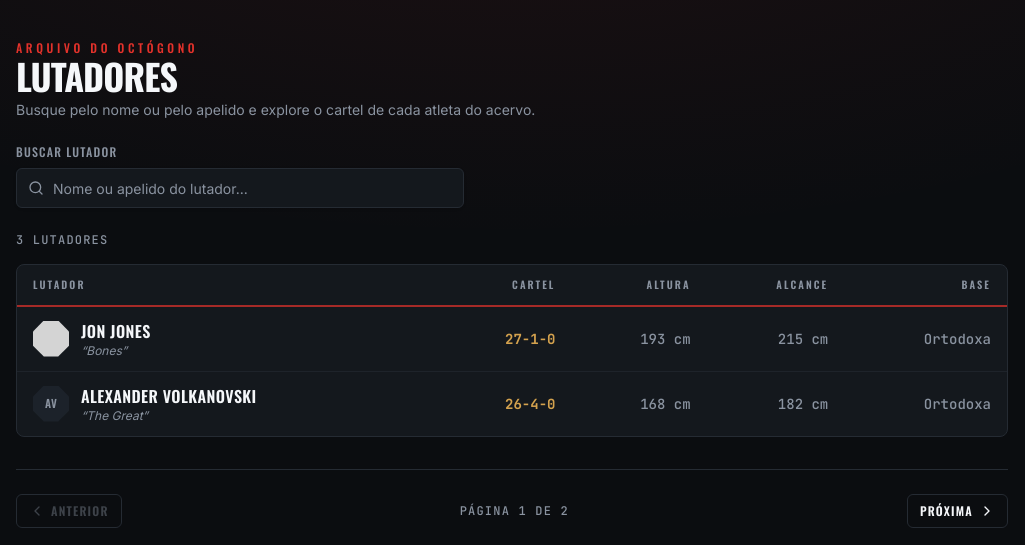
Test: FightersPage › avança de página mudando o offset na URL
Expected: the link "Jon Jones" is shown, x1=81 y1=319 x2=151 y2=343
Click the link "Próxima".
click(957, 511)  # box x1=907 y1=494 x2=1008 y2=528
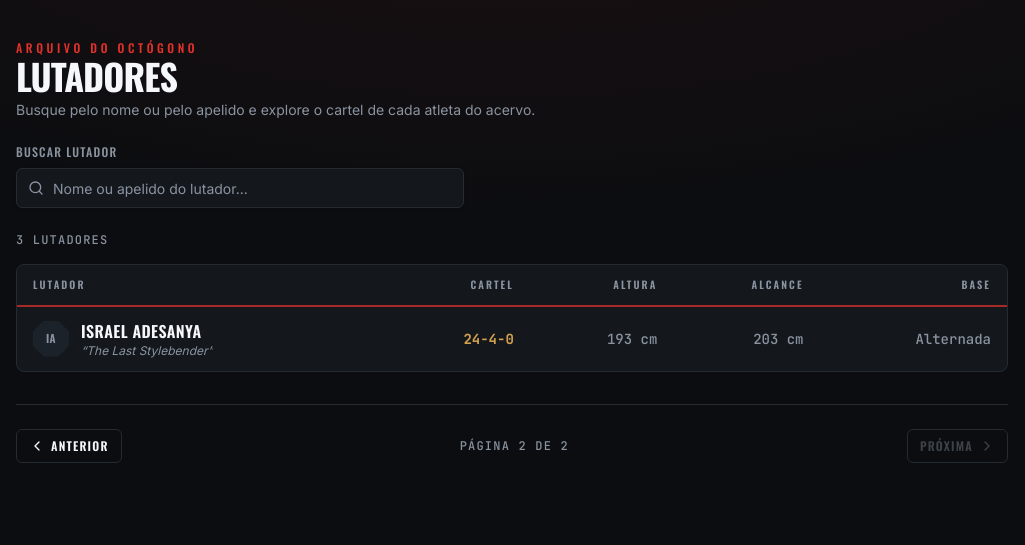
Now the link "Israel Adesanya" is shown, box x1=81 y1=319 x2=213 y2=343
